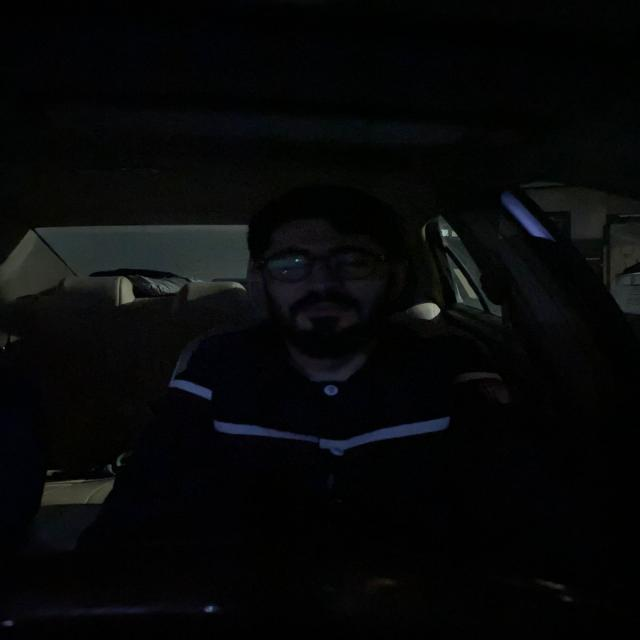drowsy: (244, 181, 404, 360)
